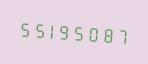eight: (101, 21, 114, 46)
five: (73, 19, 86, 44), (17, 16, 30, 40), (31, 17, 44, 41)
nine: (59, 19, 72, 43)
one: (45, 18, 58, 42)
seven: (115, 22, 128, 47)
zero: (87, 20, 100, 45)
